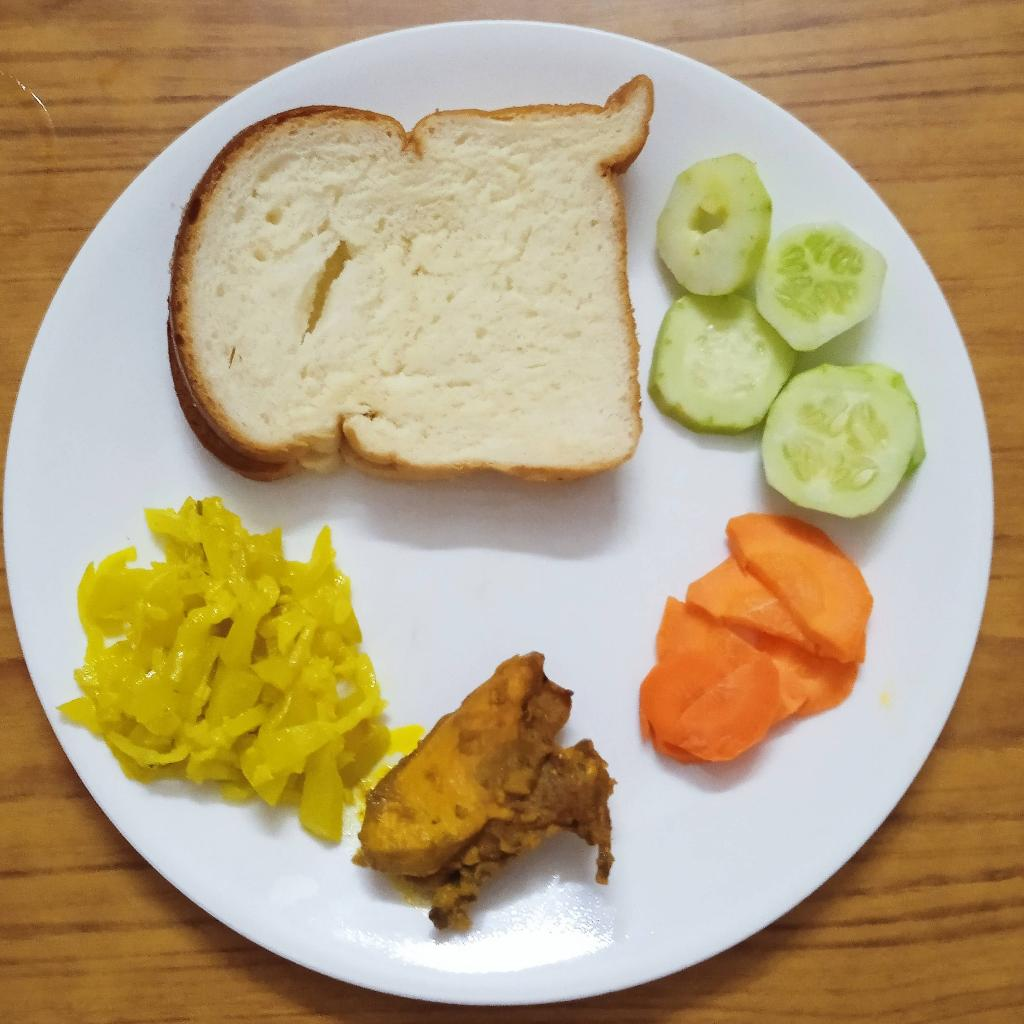bread: (169, 75, 653, 475)
carrot: (629, 511, 879, 764)
chicken: (355, 651, 612, 938)
cucumber: (648, 149, 930, 519)
vaji: (53, 502, 384, 853)
